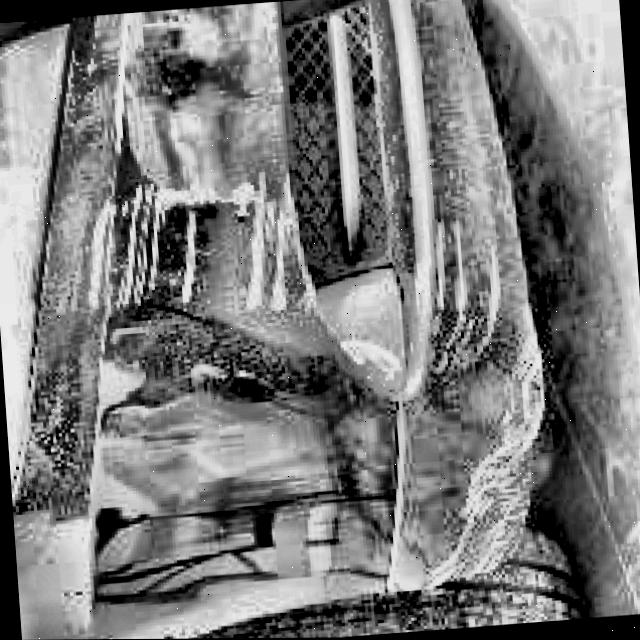bumper_dent: (427, 306, 553, 457)
bumper_scratch: (416, 306, 562, 586), (76, 174, 301, 325), (430, 205, 503, 310)
